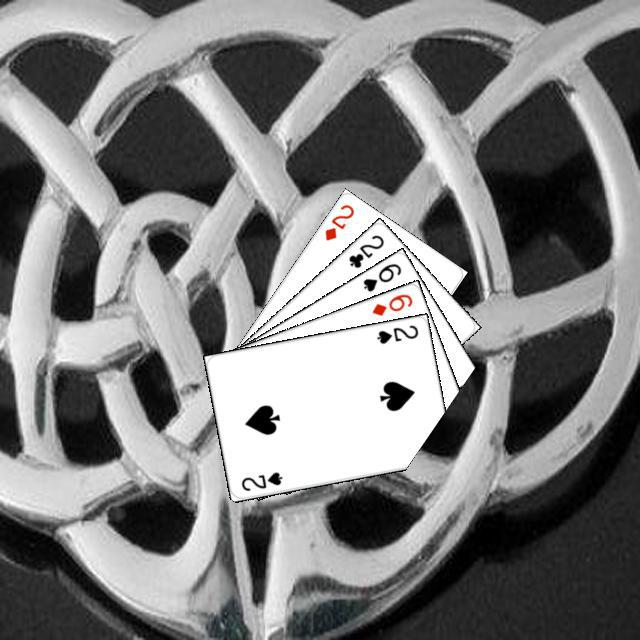2c: (343, 230, 386, 270)
2d: (320, 199, 356, 242)
2s: (372, 320, 420, 346), (236, 467, 284, 493)
6d: (367, 289, 414, 318)
6s: (358, 258, 403, 293)
